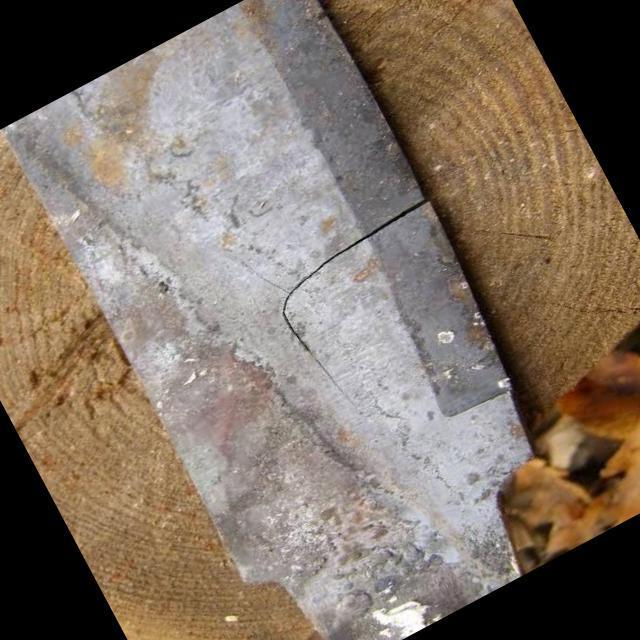defect: (275, 197, 427, 407)
